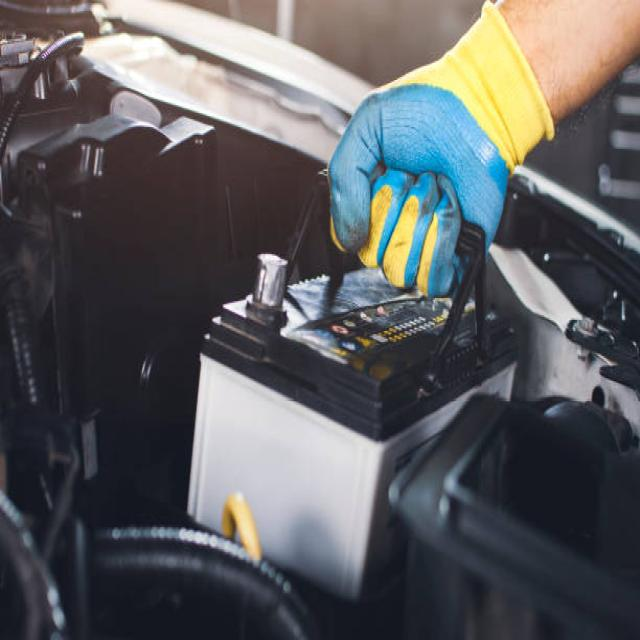Gloves: (322, 0, 561, 307)
